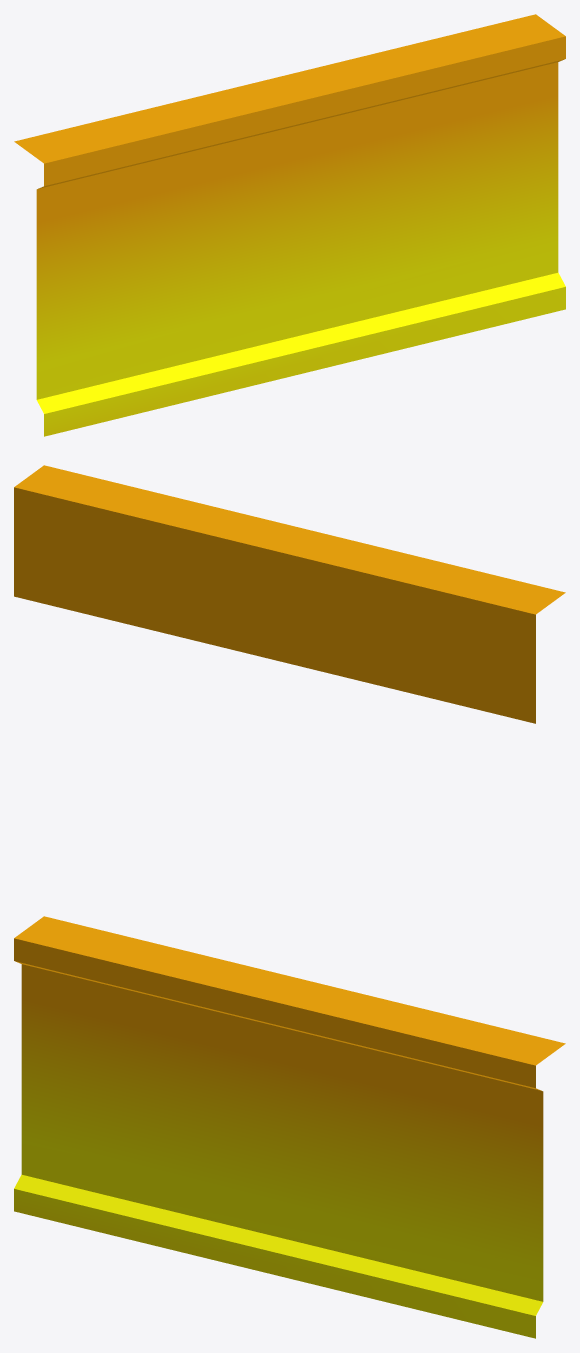
Rendered from cornice-metal-center.glb.
The picture shows the model from 3 angles, top to bottom: view 1: azimuth 30°, elevation 25°; view 2: azimuth 150°, elevation 25°; view 3: azimuth 330°, elevation 25°; orthographic projection.
Visible parts, largest first — view 1: Cornice_Metal_Center; view 2: Cornice_Metal_Center; view 3: Cornice_Metal_Center.
Part boxes in pixels (box(x1,y1,x2,y2)): Cornice_Metal_Center: box(14, 14, 565, 436); Cornice_Metal_Center: box(14, 465, 565, 723); Cornice_Metal_Center: box(14, 916, 565, 1338).
Size of the model in its own units: 2 by 1 by 0.2.
Materials: 1 (1 with a texture image).
